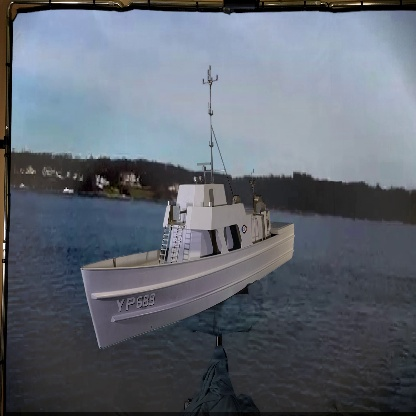YP689: (80, 65, 296, 351)
